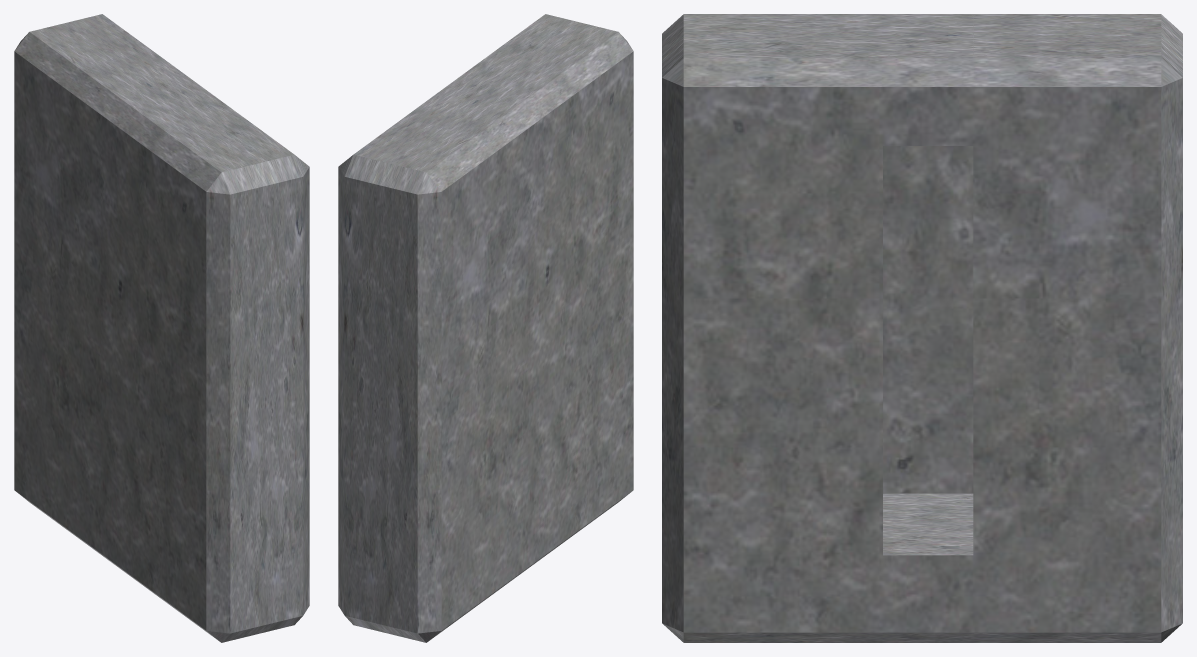
Rendered from UpdatedBox 1.fbx.
3 renders of one model, left to right at view 1: azimuth 30°, elevation 25°; view 2: azimuth 150°, elevation 25°; view 3: azimuth 270°, elevation 25°, orthographic. The views are drawn at different scales.
Parts seen in each view (by area): view 1: pCube1; view 2: pCube1; view 3: pCube1.
Boxes of the visible parts, x1,y1,x2,y2 form: pCube1: [14, 14, 309, 642]; pCube1: [338, 14, 633, 642]; pCube1: [662, 14, 1182, 642].
Size of the model in its own units: 0.2295 by 1 by 0.8072.
1 material, 1 textured.
